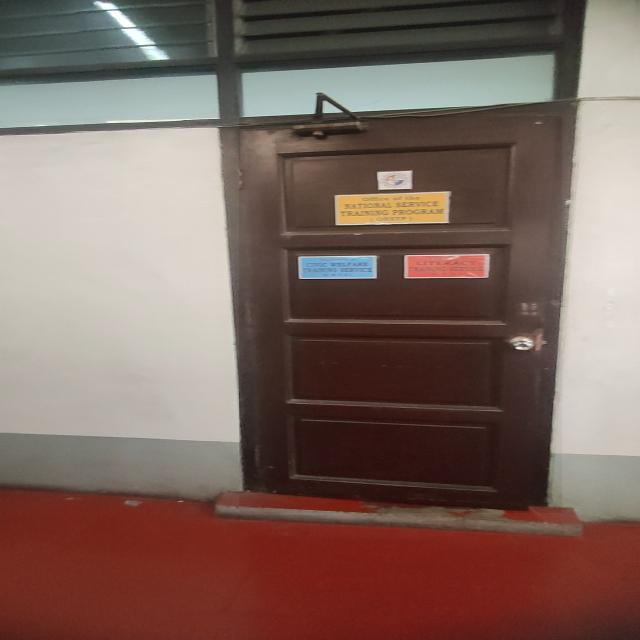door: (240, 116, 562, 513)
